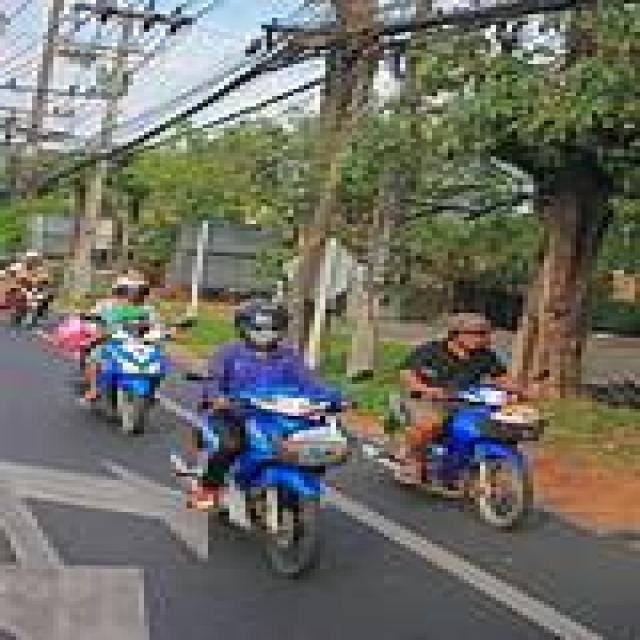Two Wheeler: (88, 321, 349, 577), (92, 321, 349, 576), (377, 384, 542, 527), (412, 382, 542, 527), (229, 479, 251, 529)
